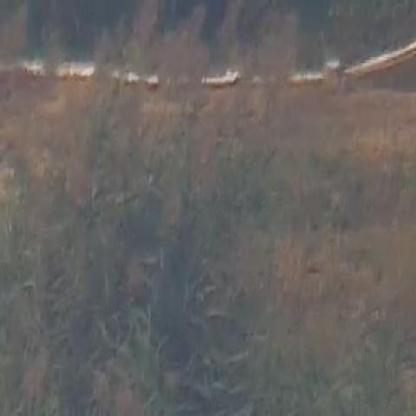other: (257, 60, 402, 176)
